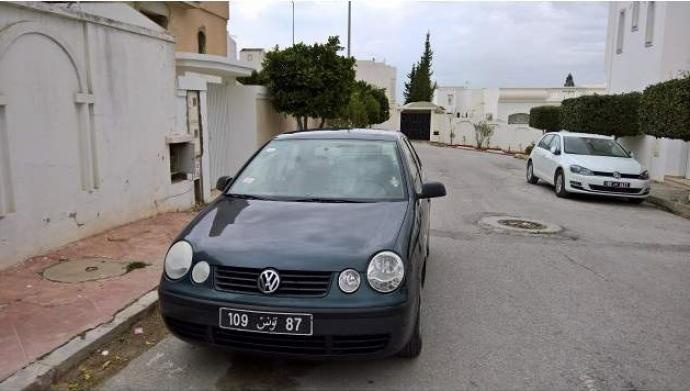LP: (217, 306, 313, 336)
